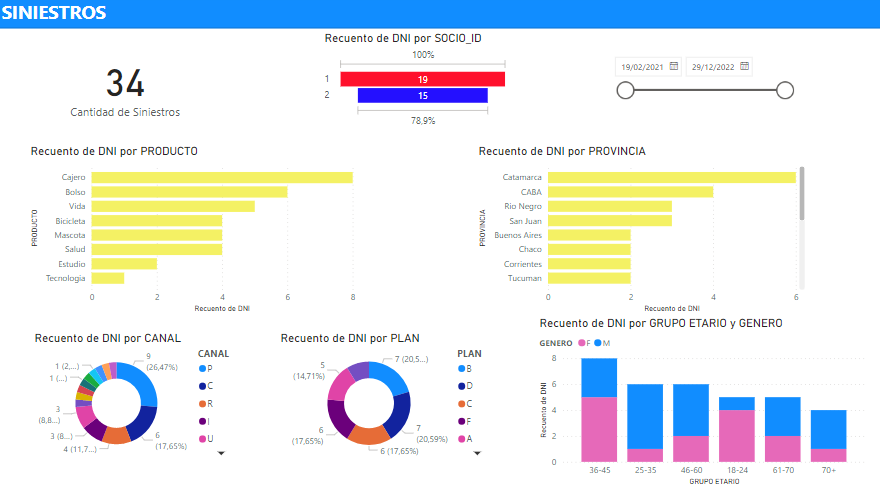

What the dashboard file says about the page in this screenshot:
{"tool":"powerbi","page":{"name":"Siniestro","canvas":[1280,720],"ordinal":1},"visuals":[{"type":"card","fields":{"Values":["SINIESTRO.DNI"]},"box":[10.1,0,270.4,129.3],"z":0},{"type":"funnel","fields":{"Y":["SINIESTRO.DNI"],"Category":["VENTA.SOCIO_ID"]},"box":[318.2,31.7,275,142.6],"z":1},{"type":"slicer","fields":{"Values":["BAJA.FECHA_BAJA"]},"box":[901.4,20.2,279.4,89.3],"z":2},{"type":"clusteredBarChart","fields":{"Category":["SINIESTRO.PRODUCTO"],"Y":["SINIESTRO.DNI"]},"box":[41.8,214.6,478.1,247.7],"z":3},{"type":"clusteredBarChart","fields":{"Category":["SINIESTRO.PROVINCIA"],"Y":["SINIESTRO.DNI"]},"box":[686.9,214.6,479.5,247.7],"z":4},{"type":"donutChart","fields":{"Category":["SINIESTRO.CANAL"],"Y":["SINIESTRO.DNI"]},"box":[47.5,501.1,270.7,151.2],"z":5},{"type":"donutChart","fields":{"Y":["SINIESTRO.DNI"],"Category":["SINIESTRO.PLAN"]},"box":[354.2,501.1,270.7,151.2],"z":6},{"type":"columnChart","fields":{"Category":["VENTA.GRUPO ETARIO"],"Series":["VENTA.GENERO"],"Y":["SINIESTRO.DNI"]},"box":[740.2,433.4,479.5,249.1],"z":7}]}

Visuals, with their boxes in screenshot pixels (x1, y1, x2, y2), scaled from the page's 1280x720 canvas onto the 880x491 screenshot:
card - SINIESTRO.DNI: bbox=[7, 0, 193, 88]
funnel - SINIESTRO.DNI x VENTA.SOCIO_ID: bbox=[219, 22, 408, 119]
slicer - BAJA.FECHA_BAJA: bbox=[620, 14, 812, 75]
clusteredBarChart - SINIESTRO.PRODUCTO x SINIESTRO.DNI: bbox=[29, 146, 357, 315]
clusteredBarChart - SINIESTRO.PROVINCIA x SINIESTRO.DNI: bbox=[472, 146, 802, 315]
donutChart - SINIESTRO.CANAL x SINIESTRO.DNI: bbox=[33, 342, 219, 445]
donutChart - SINIESTRO.DNI x SINIESTRO.PLAN: bbox=[244, 342, 430, 445]
columnChart - VENTA.GRUPO ETARIO x VENTA.GENERO: bbox=[509, 296, 839, 465]
